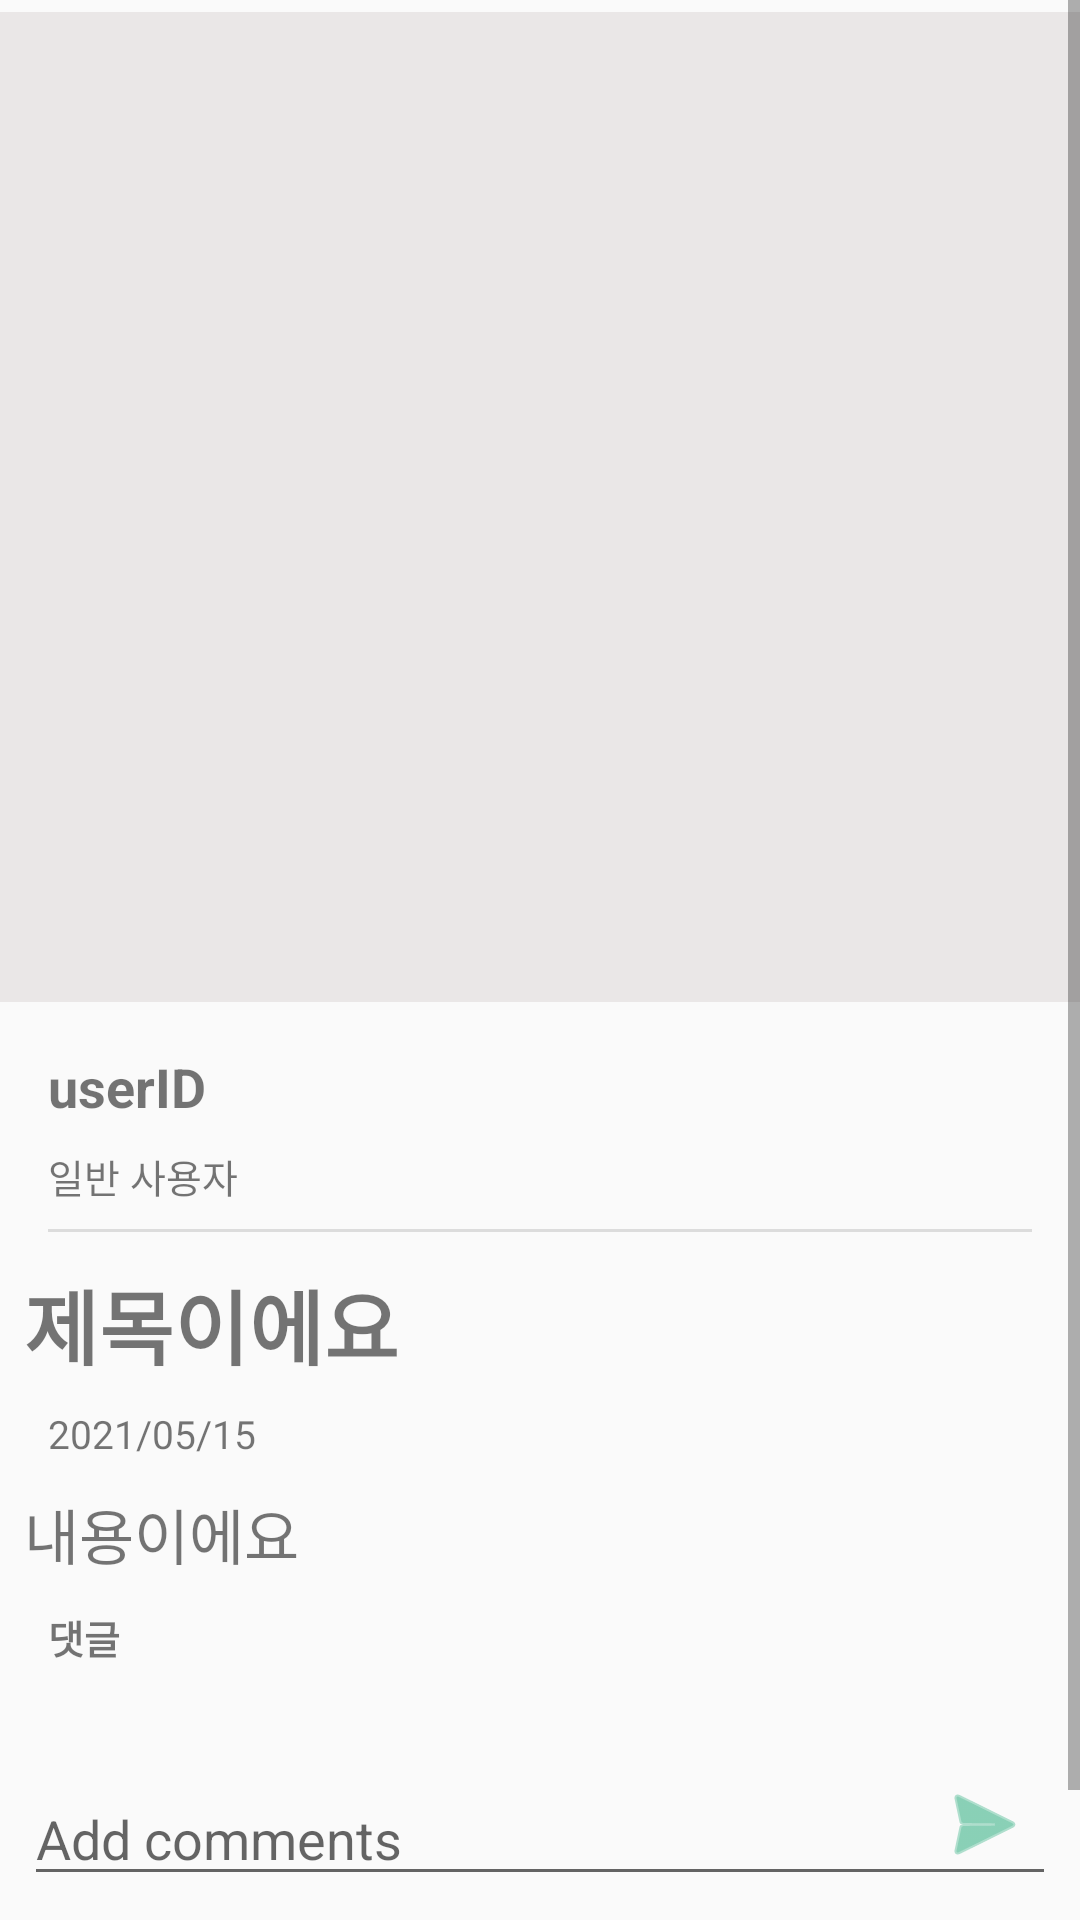

Screen size 1080×1920. Icon name, then its center in pixels as point (x, y):
send: point (985, 1824)
